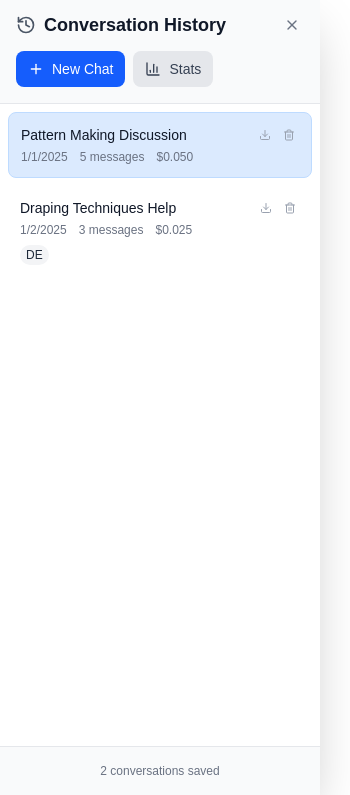
ConversationHistory › Stats Panel › should hide stats when toggle is clicked again
The image size is (350, 795).
Click the button "Stats": (173, 69) [134,51,213,87]
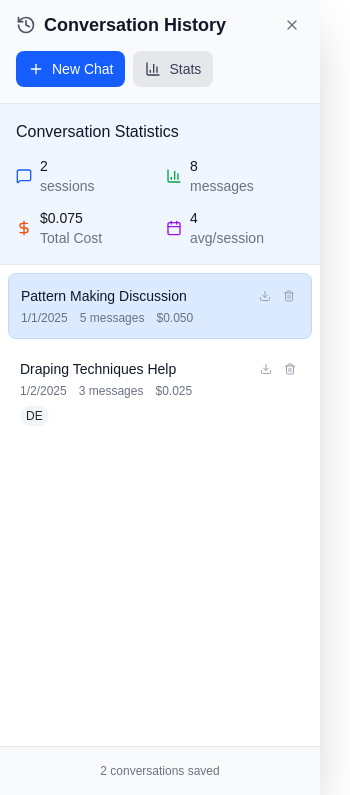
Click the button "Stats": (173, 69) [134,51,213,87]
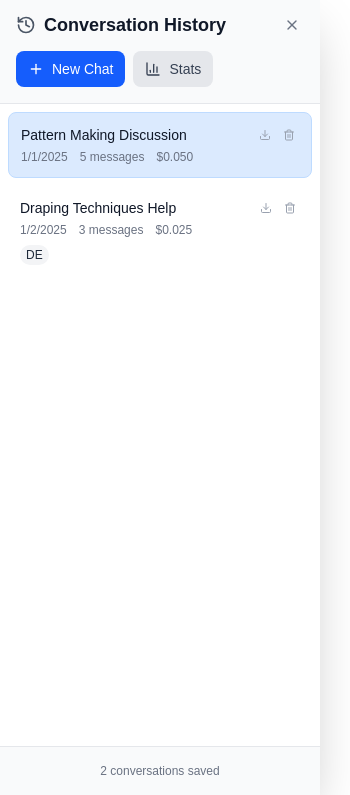
Result: the heading "Conversation Statistics" is gone
